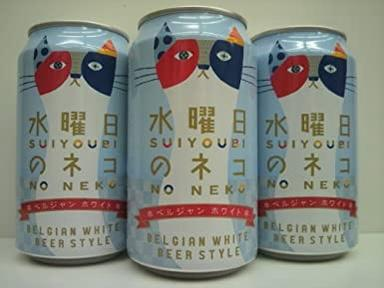metal: (122, 5, 258, 276), (15, 14, 132, 262), (251, 21, 366, 266)
